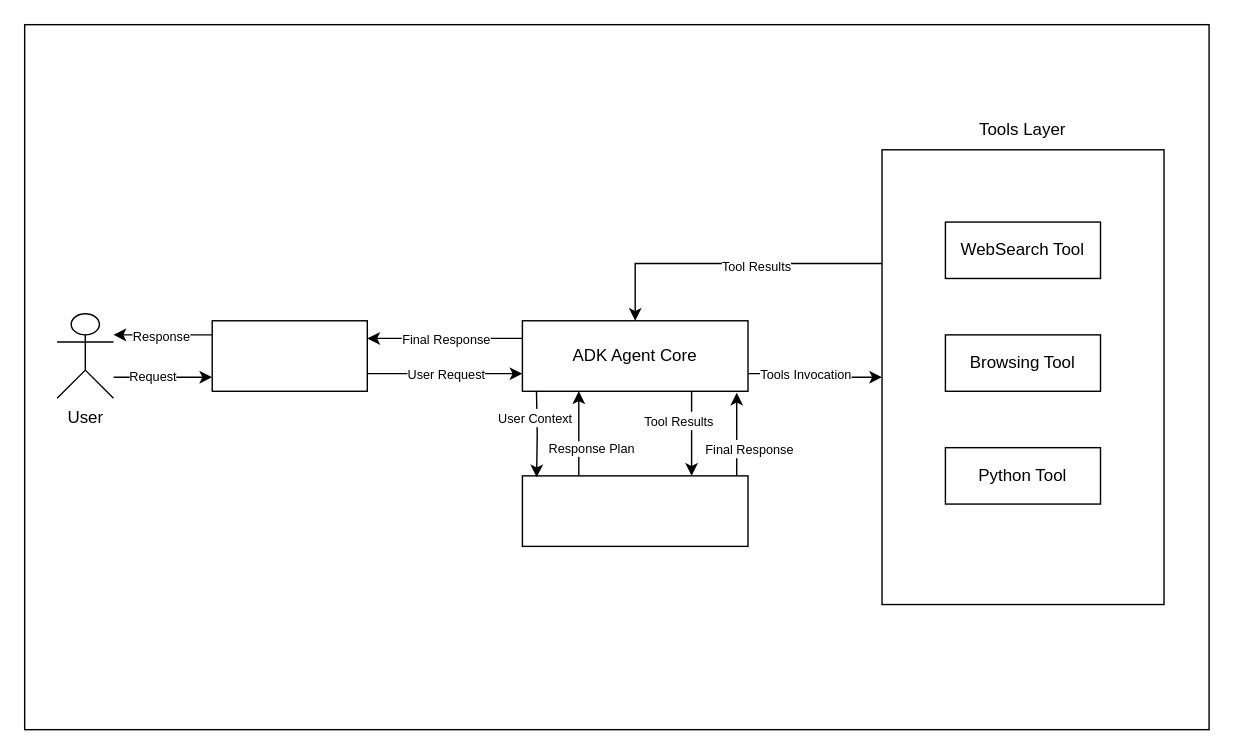
The diagram is 1234 pixels wide and 754 high, and some of its shapes have lost their labels. The shapes that lost their labels are listed below. From the top down, each one's centre as x and y in pixels, then its label:
At (x=289, y=355): "CLI (UI)".
At (x=634, y=510): "Gemini (LLM)".
